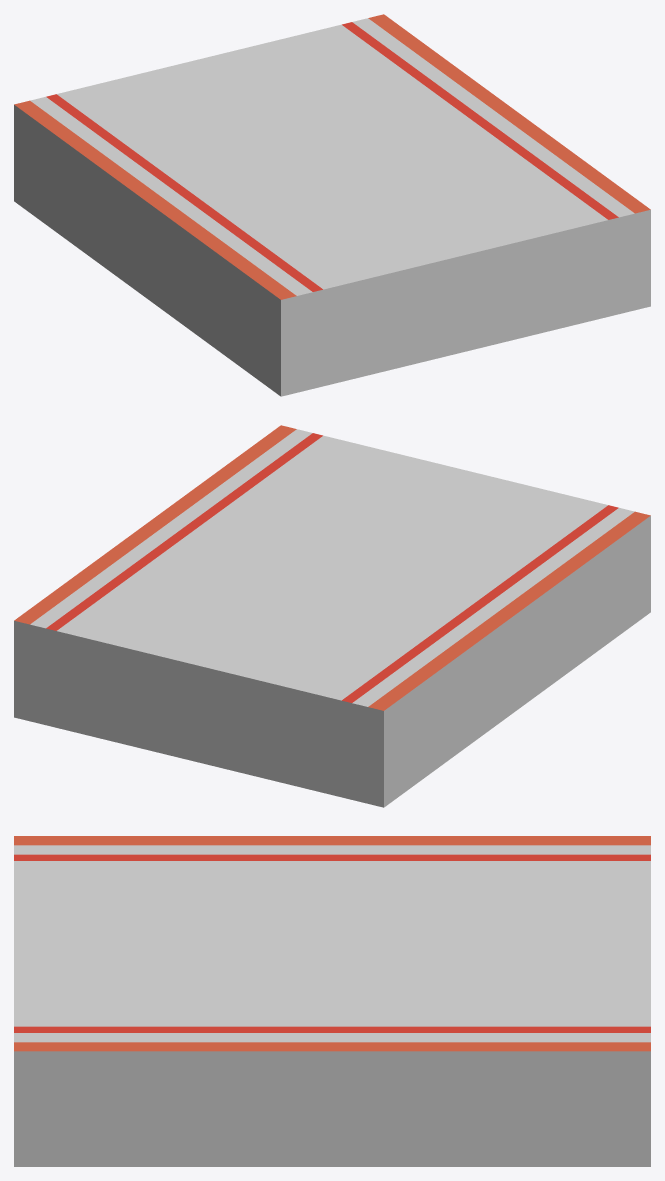
Rendered from WillPlatfrom.fbx.
3 renders of one model, top to bottom at view 1: azimuth 30°, elevation 25°; view 2: azimuth 150°, elevation 25°; view 3: azimuth 270°, elevation 25°, orthographic. The views are drawn at different scales.
Parts seen in each view (by area): view 1: WillPlatfrom; view 2: WillPlatfrom; view 3: WillPlatfrom.
Part boxes in pixels (<box>): WillPlatfrom: <box>14,14,650,396</box>; WillPlatfrom: <box>14,425,650,807</box>; WillPlatfrom: <box>14,836,650,1166</box>.
Bounding box in the file's own units: 800 × 200 × 1000.
